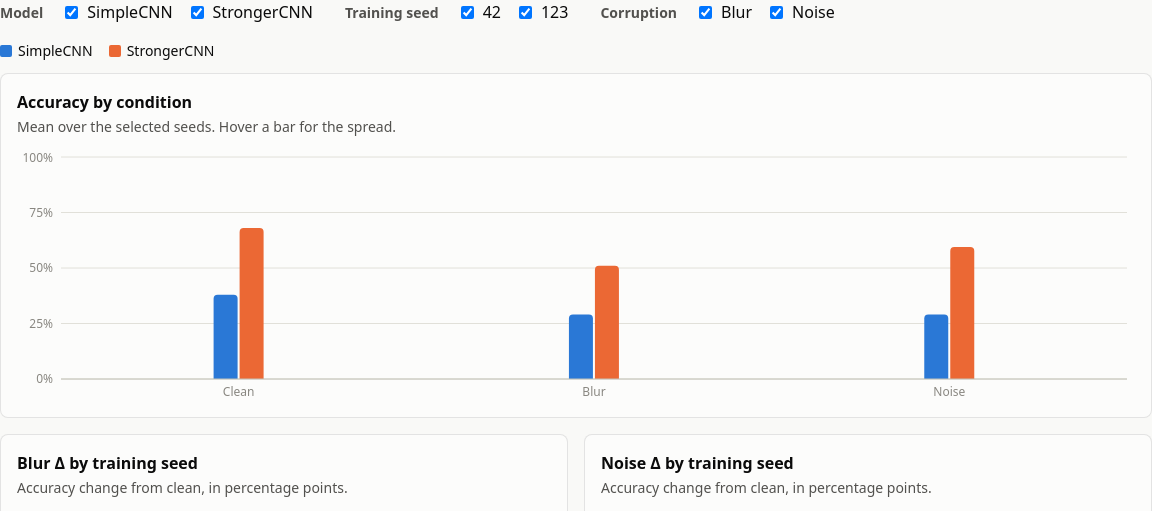
Test case: says so when the filters leave nothing to show
Click the checkbox labelled "42". click: x=467, y=12
box: [461,6,474,18]
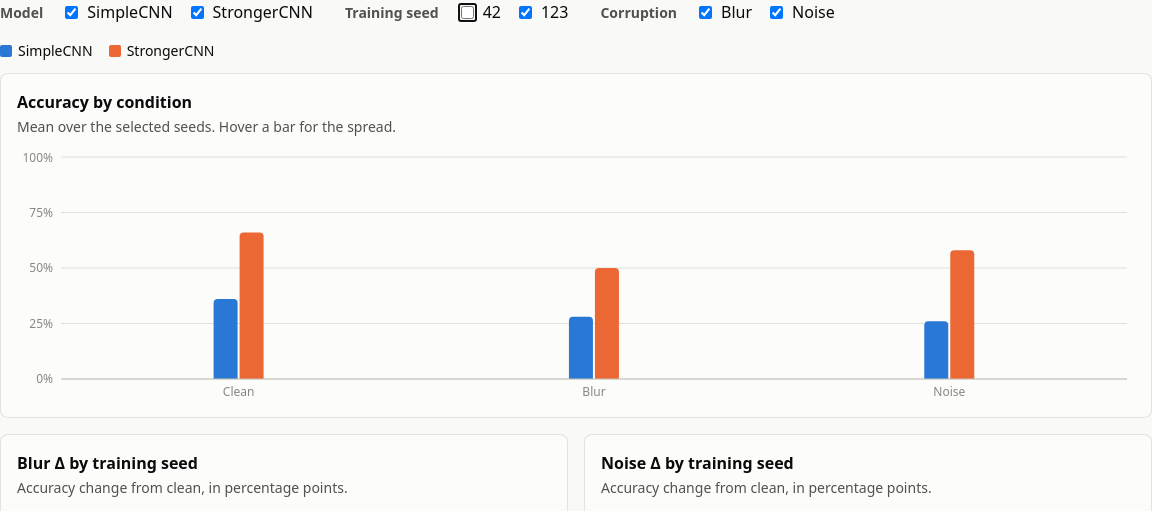
Click the checkbox labelled "123". click: x=526, y=12
box: [519,6,532,18]
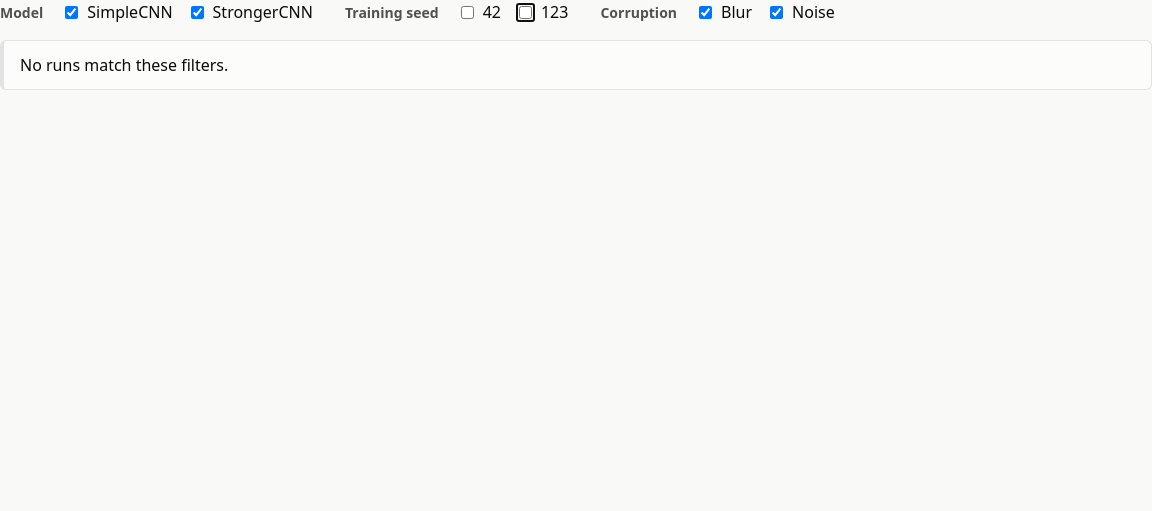
Expected: the text "No runs match these filters." is shown, [0,40,1151,90]
